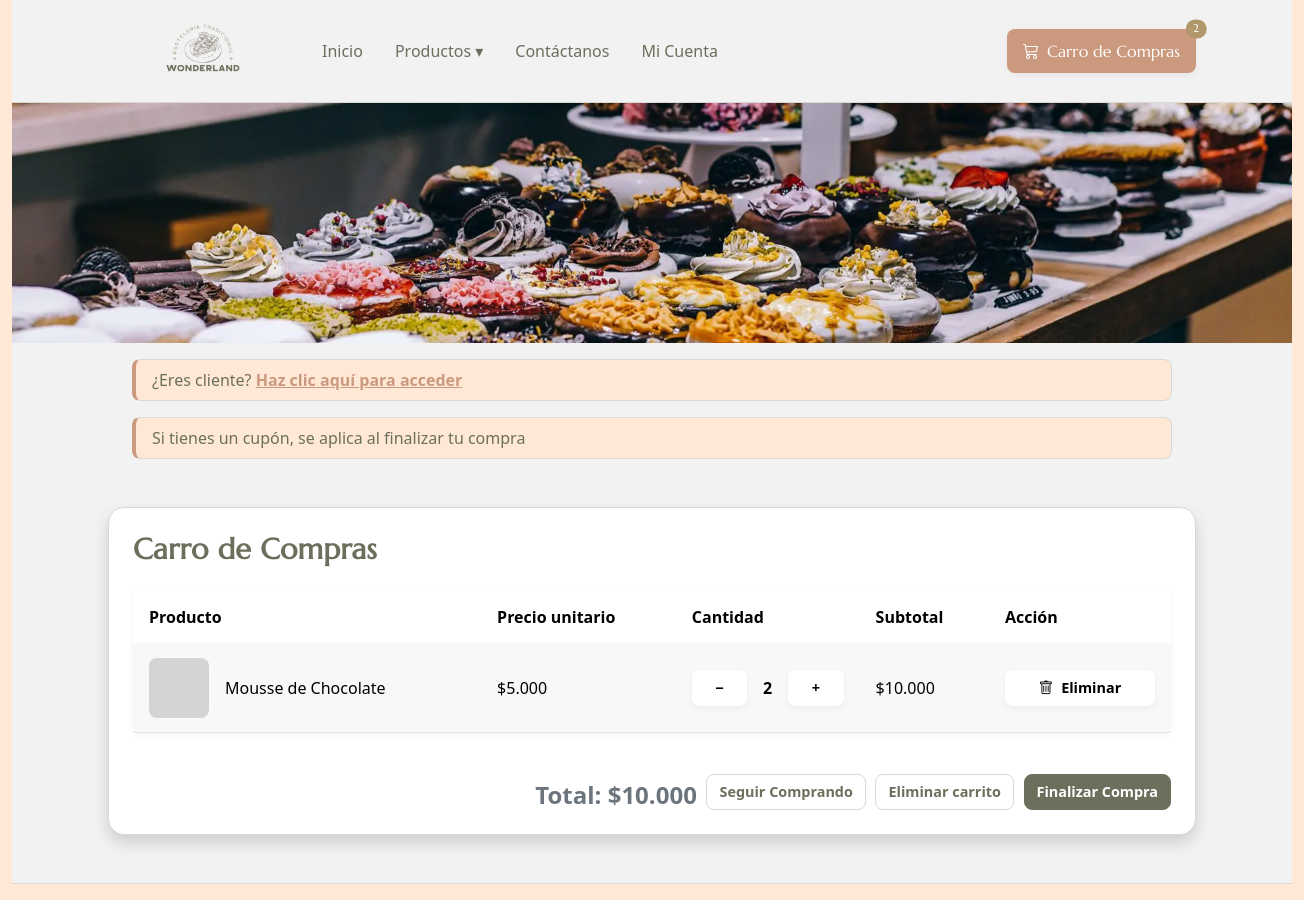
Test: Carro.jsx › vacía el carrito correctamente
Click the button "Eliminar carrito" at (945, 792), box [876,774,1014,810]
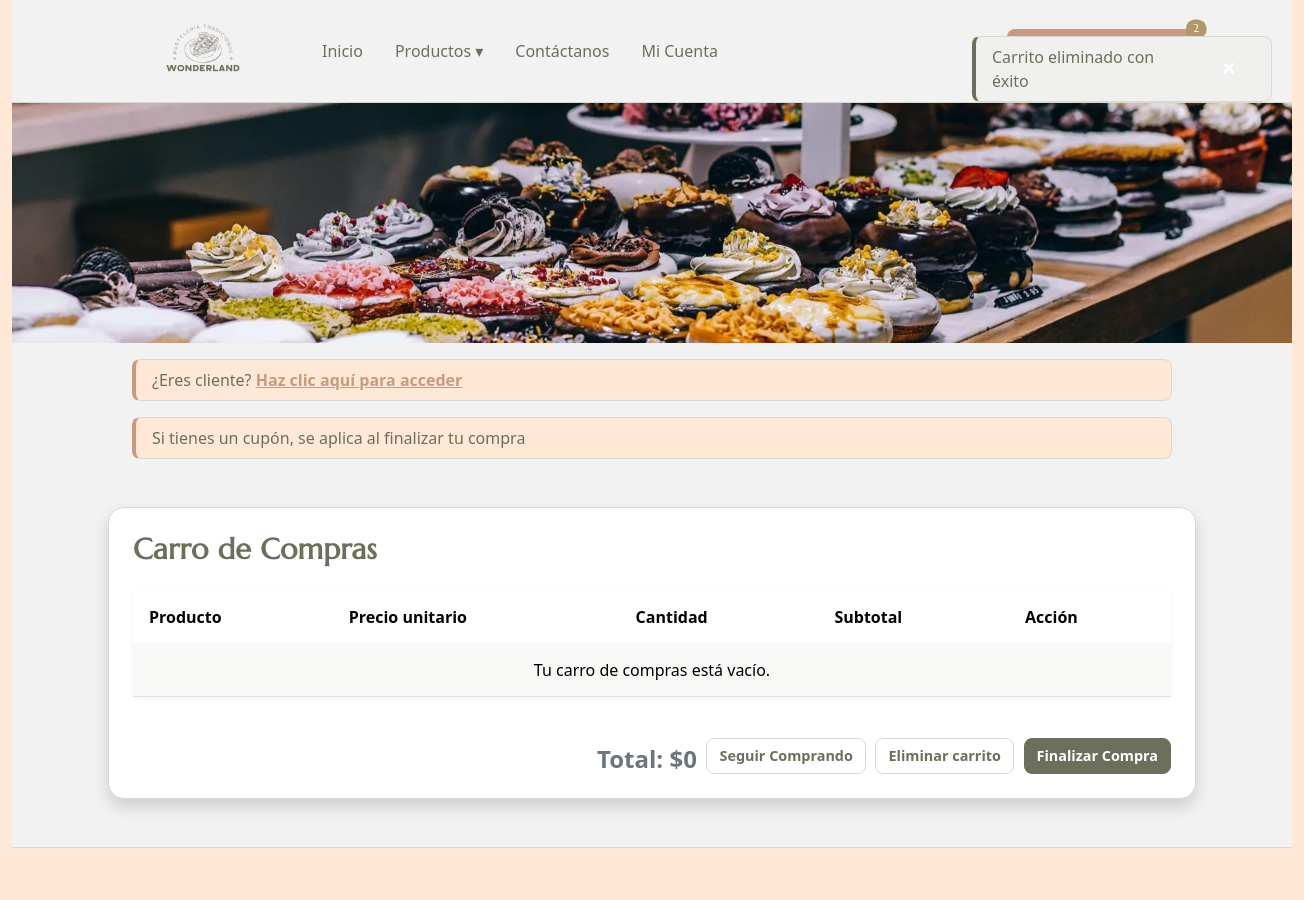
expect the text "Carrito eliminado con éxito" is shown: met, box [992,46,1154,92]
